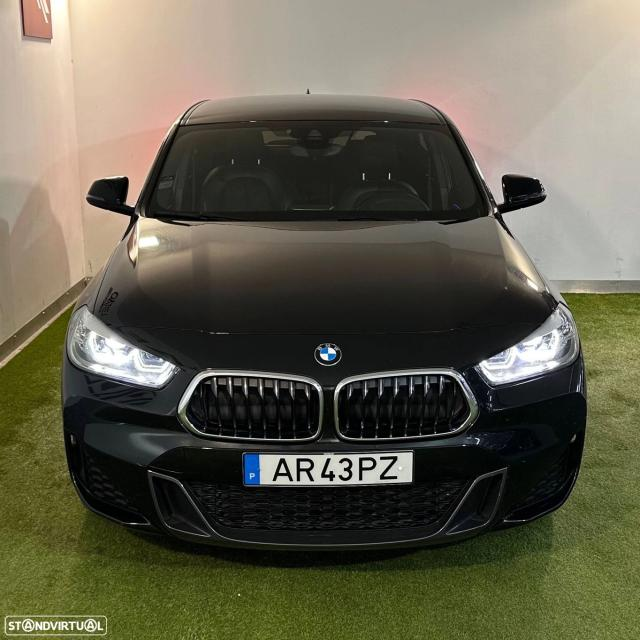portuguese-license-plates: (244, 452, 413, 485)
